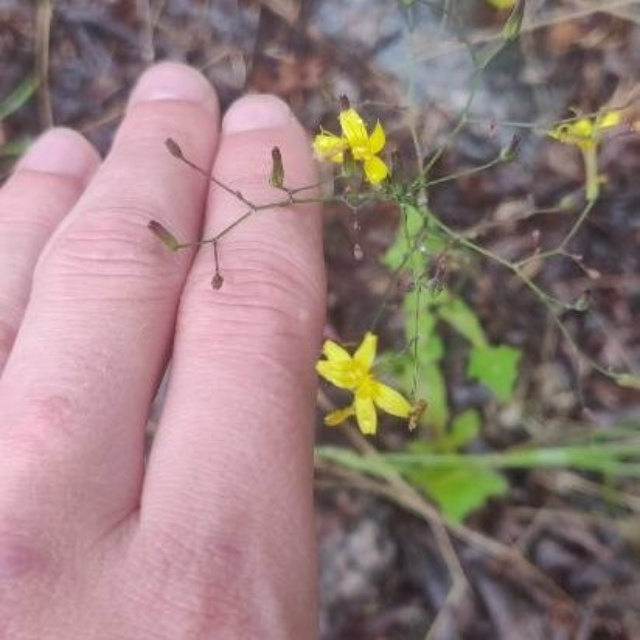obstacle: (199, 90, 597, 440)
